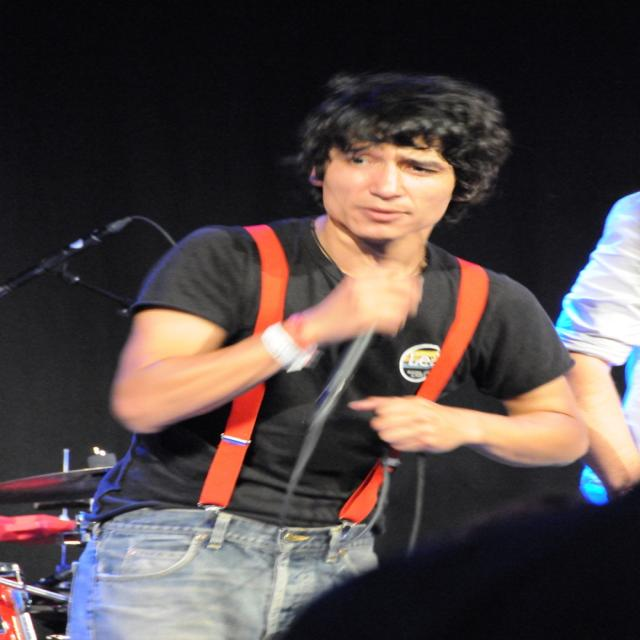no_helmet: (282, 52, 458, 182)
